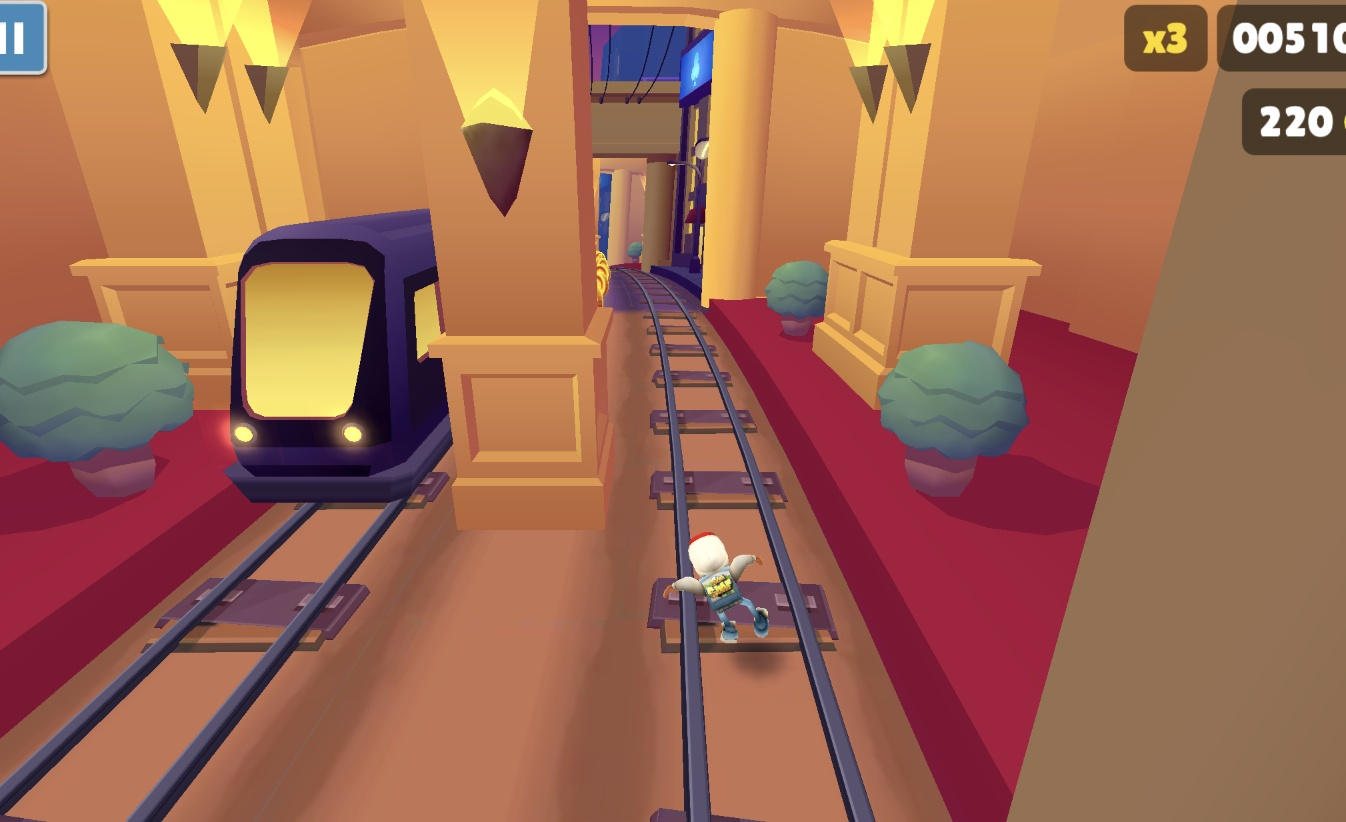pillar: (420, 0, 614, 531)
train: (229, 208, 455, 510)
